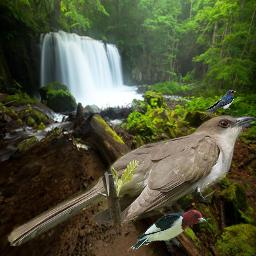Cuckoo: (6, 113, 255, 246)
Swallow: (200, 90, 236, 120)
Woodpecker: (127, 206, 210, 254)
